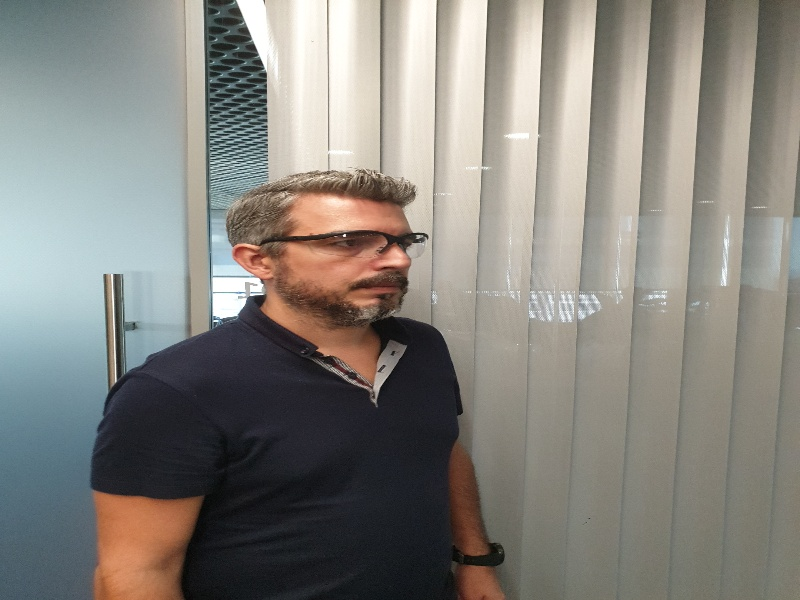Gozluk: (261, 231, 431, 257)
